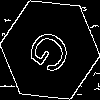G: (25, 25, 81, 84)
